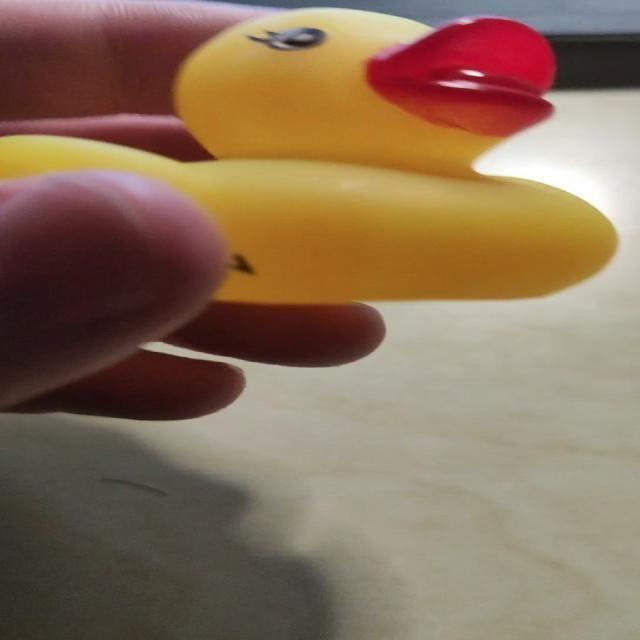rubber-duck: (0, 1, 615, 301)
